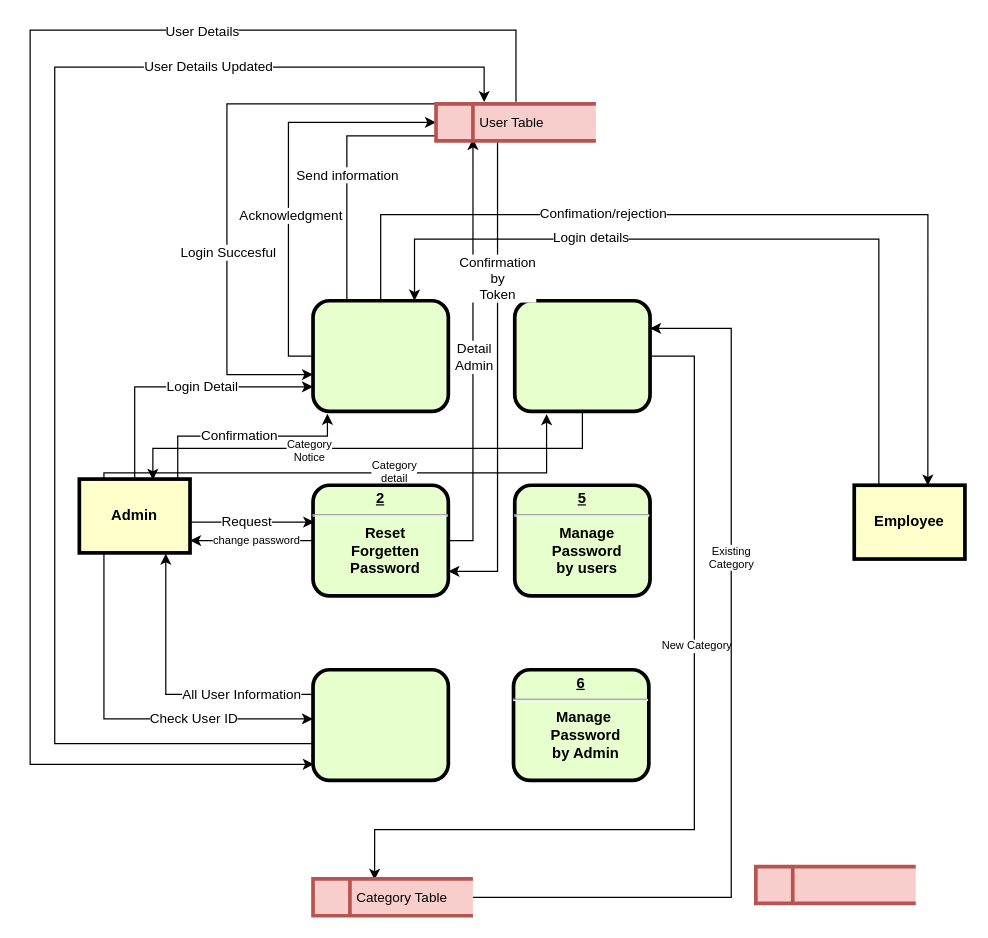
The diagram is 988 pixels wide and 938 high, and some of its shapes have lost their labels. Here are the shapes that lost their labels. From the top down, the centre of each, then its label:
the point at 380,355: 1 Login to System
the point at 581,355: 4 Manage Password Category
the point at 380,724: 3 Manage Users
the point at 835,884: Passwords Table
